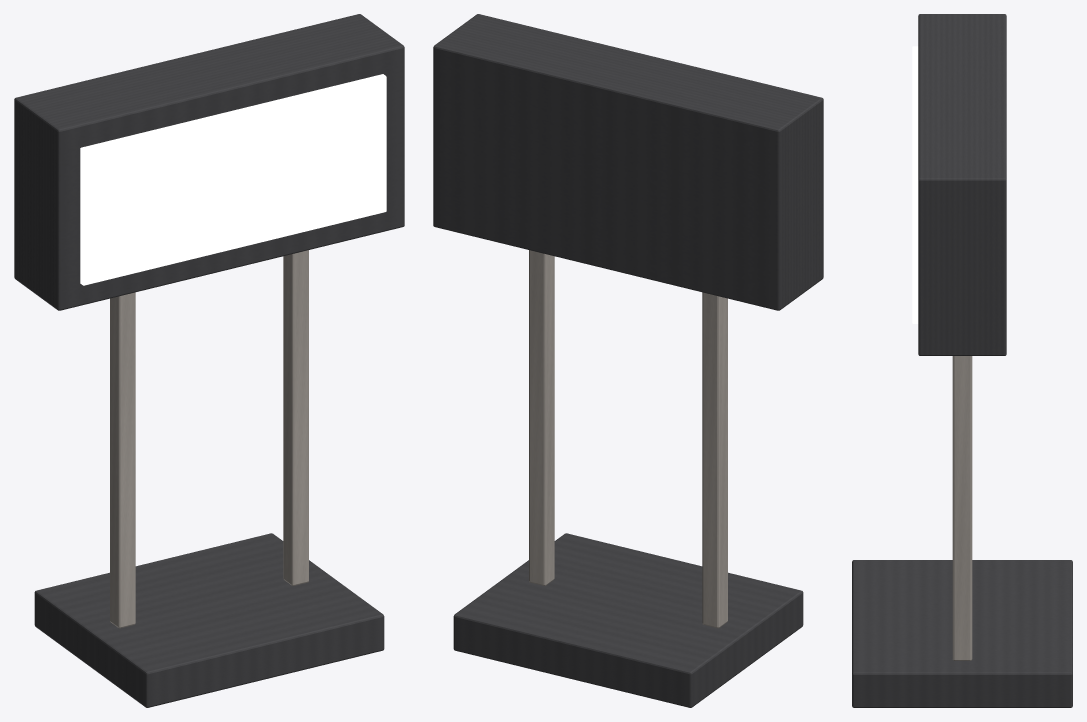
The model's file is assembly_floodlight.glb.
The picture shows the model from 3 angles, left to right: view 1: azimuth 30°, elevation 25°; view 2: azimuth 150°, elevation 25°; view 3: azimuth 270°, elevation 25°; orthographic projection. The views are drawn at different scales.
Parts seen in each view (by area): view 1: lamp_housing, diffuser.001, base.015, support.002, support.003; view 2: lamp_housing, base.015, support.002, support.003; view 3: base.015, lamp_housing, support.003, diffuser.001.
Boxes of the visible parts, x1,y1,x2,y2 form: lamp_housing: (14,14,404,310); diffuser.001: (80,74,386,285); base.015: (34,533,384,707); support.002: (110,292,135,628); support.003: (283,250,308,585); lamp_housing: (433,14,823,310); base.015: (453,533,803,707); support.002: (702,292,727,628); support.003: (529,250,554,585); base.015: (852,560,1072,707); lamp_housing: (918,14,1006,355); support.003: (952,356,972,660); diffuser.001: (912,46,918,323).
Size of the model in its own units: 0.8 by 1.25 by 0.45.
3 materials, 2 textured.
